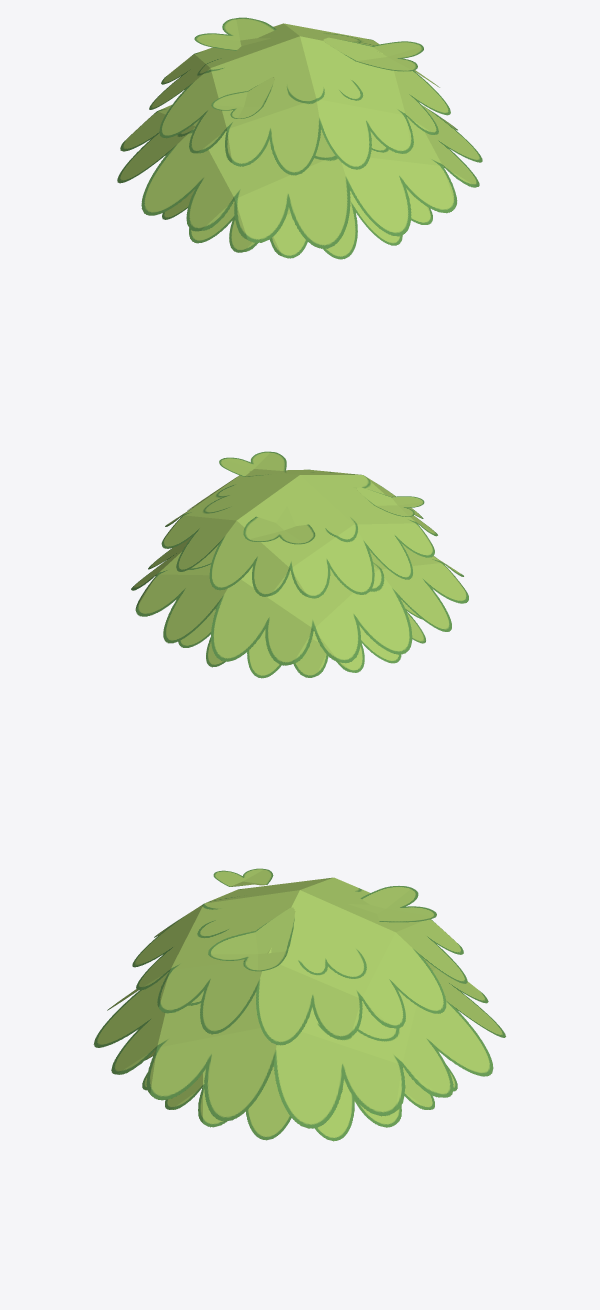
The model's file is George.fbx.
3 views of the same model, one above another, from view 1: azimuth 30°, elevation 25°; view 2: azimuth 150°, elevation 25°; view 3: azimuth 270°, elevation 25° (orthographic). The views are drawn at different scales.
Visible parts, largest first — view 1: Bush (L).003, Bush (L).002, Bush (L).001, Leaf 2 (seamless).003, Leaf 2 (seamless).001, Leaf 2 (seamless).002; view 2: Bush (L).003, Bush (L).002, Bush (L).001, Leaf 2 (seamless).001, Leaf 2 (seamless).003, Leaf 2 (seamless).002; view 3: Bush (L).003, Bush (L).002, Bush (L).001, Leaf 2 (seamless).003, Leaf 2 (seamless).001, Leaf 2 (seamless).002.
Part boxes in pixels (<box>): Bush (L).003: <box>149,23,450,175</box>; Bush (L).002: <box>117,105,482,248</box>; Bush (L).001: <box>162,189,432,259</box>; Leaf 2 (seamless).003: <box>323,37,423,71</box>; Leaf 2 (seamless).001: <box>194,17,276,50</box>; Leaf 2 (seamless).002: <box>211,77,274,118</box>; Bush (L).003: <box>161,469,437,598</box>; Bush (L).002: <box>131,537,468,665</box>; Bush (L).001: <box>178,600,425,678</box>; Leaf 2 (seamless).001: <box>243,505,315,544</box>; Leaf 2 (seamless).003: <box>219,451,286,476</box>; Leaf 2 (seamless).002: <box>356,487,424,516</box>; Bush (L).003: <box>132,877,467,1045</box>; Bush (L).002: <box>93,959,505,1128</box>; Bush (L).001: <box>142,1050,457,1141</box>; Leaf 2 (seamless).003: <box>208,907,295,971</box>; Leaf 2 (seamless).001: <box>348,886,436,922</box>; Leaf 2 (seamless).002: <box>213,868,273,886</box>.
Size of the model in its own units: 73.66 by 41.87 by 73.66.
